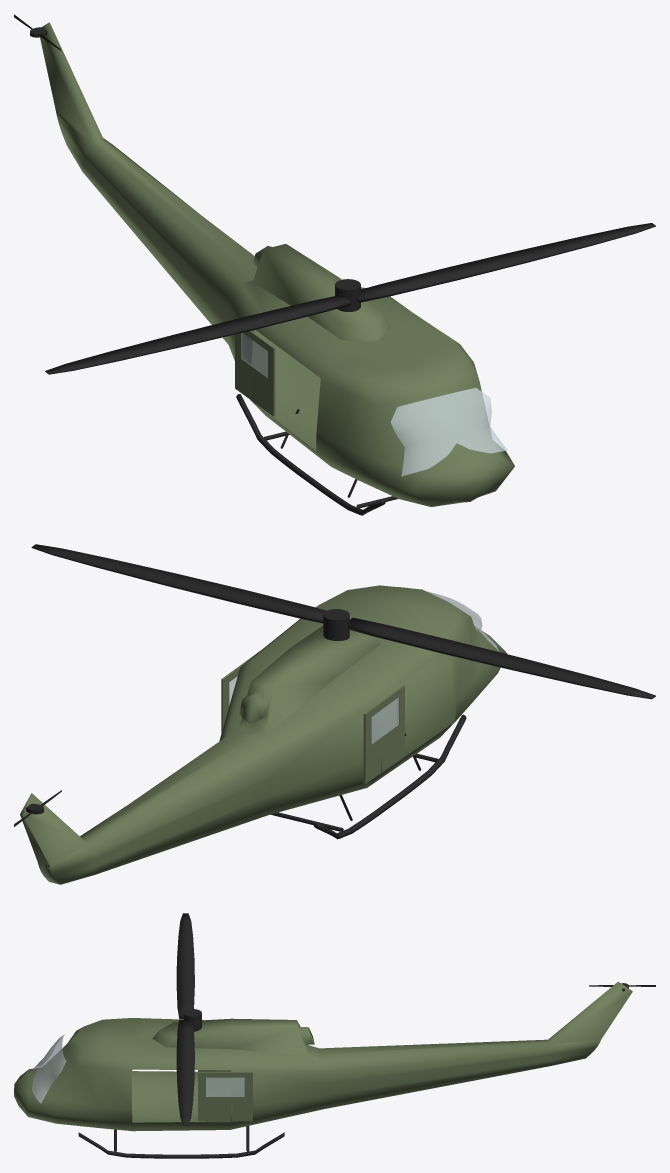
File: huey_helicopter.glb
3 renders of one model, top to bottom at view 1: azimuth 30°, elevation 25°; view 2: azimuth 150°, elevation 25°; view 3: azimuth 270°, elevation 25°, orthographic. The views are drawn at different scales.
Parts seen in each view (by area): view 1: Huey_Copy, Cockpit_Windshield, New_Blade_2, New_Blade_1, Door_Left, New_Skid_L, Window_R_Open.001; view 2: Huey_Copy, New_Blade_2, New_Blade_1, Door_Left, New_Skid_L, New_Rotor_Hub, Window_R_Open.001, Door_Right; view 3: Huey_Copy, Door_Right, New_Blade_1, New_Blade_2, Cockpit_Windshield, New_Skid_R, Window_R_Open.
Boxes of the visible parts, x1,y1,x2,y2 form: Huey_Copy: (40,22,514,506); Cockpit_Windshield: (390,388,507,476); New_Blade_2: (45,295,350,374); New_Blade_1: (356,223,655,302); Door_Left: (235,330,275,416); New_Skid_L: (236,394,385,515); Window_R_Open.001: (241,332,267,377); Huey_Copy: (20,585,507,884); New_Blade_2: (348,617,655,699); New_Blade_1: (31,544,326,623); Door_Left: (363,685,404,783); New_Skid_L: (313,714,466,839); New_Rotor_Hub: (323,609,349,640); Window_R_Open.001: (371,697,398,743); Door_Right: (221,650,260,733); Huey_Copy: (14,981,632,1131); Door_Right: (198,1072,252,1121); New_Blade_1: (176,1019,194,1125); New_Blade_2: (176,913,194,1018); Cockpit_Windshield: (32,1034,66,1103); New_Skid_R: (78,1132,284,1158); Window_R_Open: (206,1077,244,1096).
Bounding box in the file's own units: 13.59 × 4.85 × 17.46.
